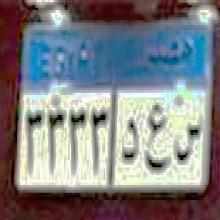3: (87, 104, 111, 174), (67, 105, 88, 173), (24, 105, 44, 175), (46, 105, 66, 172)
ain: (143, 100, 171, 177)
daal: (119, 115, 140, 166)
seen: (173, 112, 203, 170)
